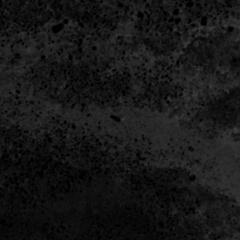Vegetation: (32, 102, 240, 186), (40, 24, 147, 64)
